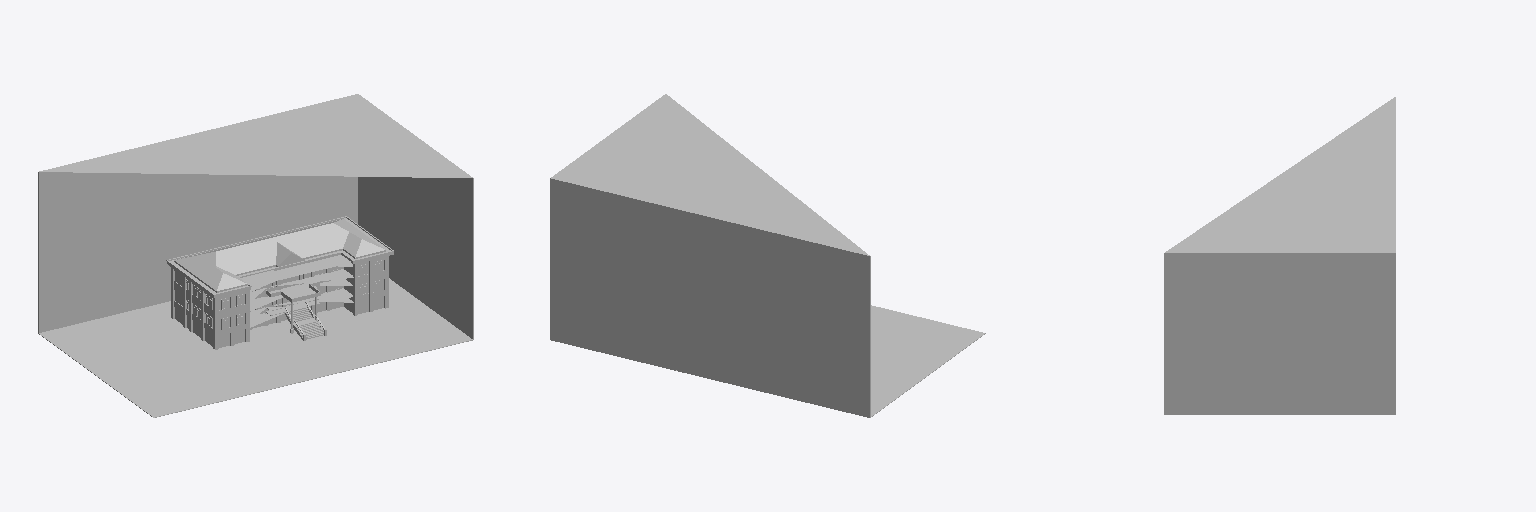
Rendered from Ban ve 3D.obj.
3 renders of one model, left to right at view 1: azimuth 30°, elevation 25°; view 2: azimuth 150°, elevation 25°; view 3: azimuth 270°, elevation 25°, orthographic.
Visible parts, largest first — view 1: Mesh141 Group55 Model, Mesh140 Group55 Model, Mesh142 Difference Model, Mesh188 MB_S_n1 Model, Mesh191 s_n_m_i1 Model, Mesh144 Group57 Model, Mesh143 Group56 Model, Mesh186 ban_cong1 Model, Mesh187 Thang_sanh_don1 Model; view 2: Mesh141 Group55 Model, Mesh140 Group55 Model; view 3: Mesh141 Group55 Model.
Boxes of the visible parts, box(x1,y1,x2,y2) form: Mesh141 Group55 Model: box(38, 94, 473, 339); Mesh140 Group55 Model: box(38, 333, 472, 417); Mesh142 Difference Model: box(174, 219, 385, 292); Mesh188 MB_S_n1 Model: box(171, 256, 388, 349); Mesh191 s_n_m_i1 Model: box(166, 216, 393, 297); Mesh144 Group57 Model: box(174, 269, 384, 318); Mesh143 Group56 Model: box(174, 288, 384, 335); Mesh186 ban_cong1 Model: box(266, 282, 320, 302); Mesh187 Thang_sanh_don1 Model: box(284, 305, 323, 339); Mesh141 Group55 Model: box(550, 94, 870, 417); Mesh140 Group55 Model: box(551, 305, 985, 417); Mesh141 Group55 Model: box(1164, 97, 1395, 414).
Bounding box in the file's own units: 62088 × 30026 × 38835.